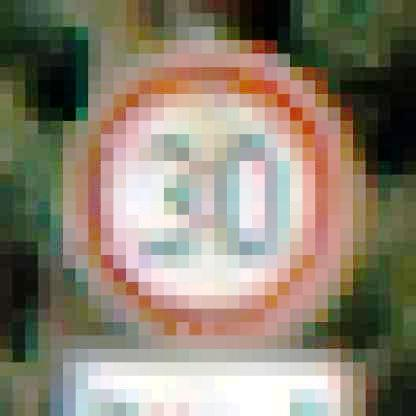Speed Limit -30-: (69, 49, 354, 338)
